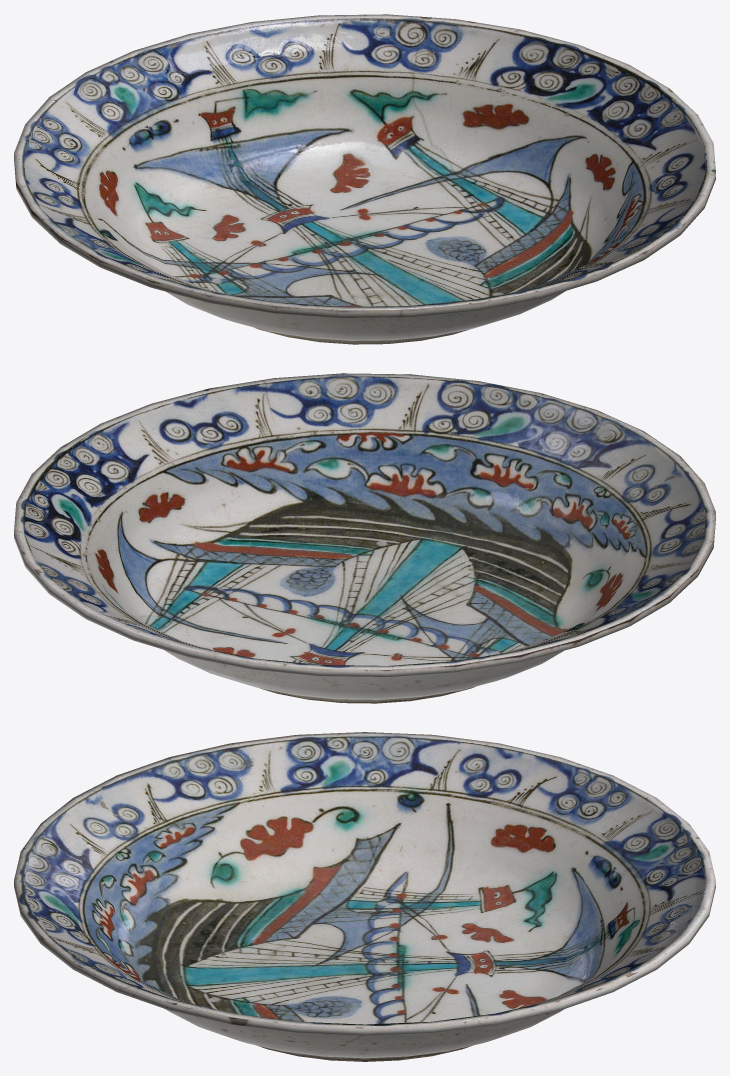
The model's file is Dish with Sailing-ship Design.obj.
3 renders of one model, top to bottom at view 1: azimuth 30°, elevation 25°; view 2: azimuth 150°, elevation 25°; view 3: azimuth 270°, elevation 25°, orthographic.
Parts seen in each view (by area): view 1: Circle; view 2: Circle; view 3: Circle.
Part boxes in pixels (box(x1,y1,x2,y2)): Circle: box(14, 14, 715, 344); Circle: box(14, 373, 715, 703); Circle: box(14, 732, 715, 1061).
Size of the model in its own units: 15.22 by 2.65 by 15.22.
2 materials, 2 textured.
